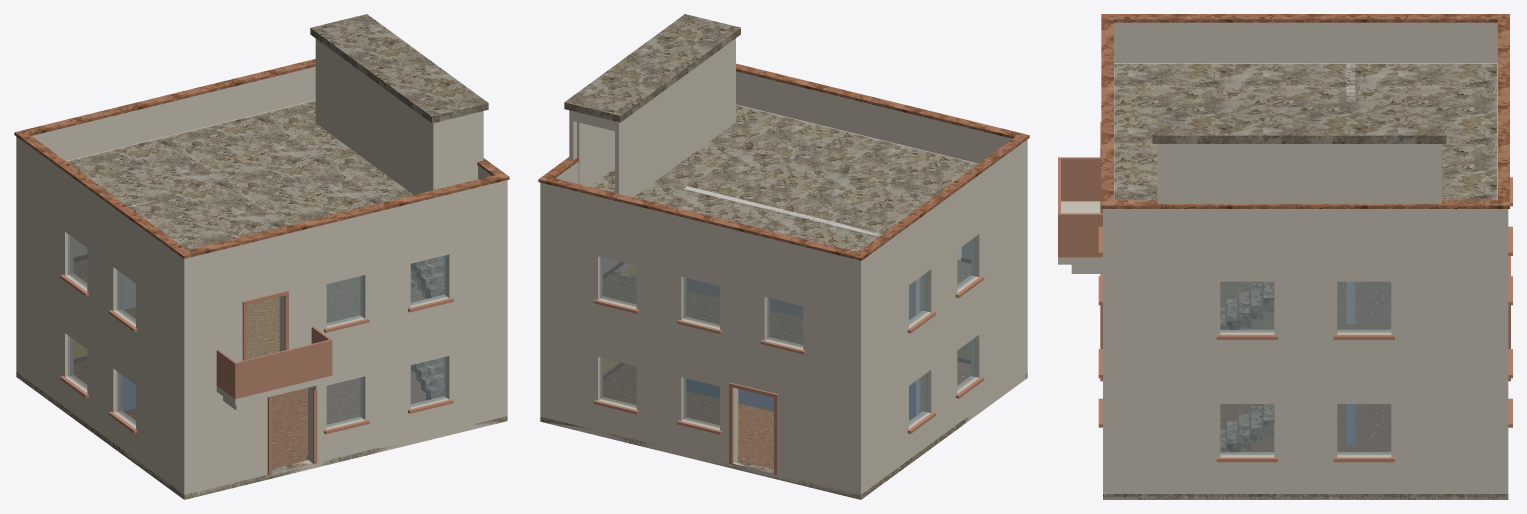
File: bay-villa-cream.coast-v1.lod0.glb
3 renders of one model, left to right at view 1: azimuth 30°, elevation 25°; view 2: azimuth 150°, elevation 25°; view 3: azimuth 270°, elevation 25°, orthographic. The views are drawn at different scales.
Visible parts, largest first — view 1: bay-villa-cream; view 2: bay-villa-cream; view 3: bay-villa-cream.
Boxes of the visible parts, x1,y1,x2,y2 form: bay-villa-cream: [14, 14, 509, 499]; bay-villa-cream: [538, 14, 1029, 499]; bay-villa-cream: [1058, 14, 1512, 499].
Size of the model in its own units: 10.2 by 8.95 by 10.1.
Materials: 4 (2 with a texture image).
